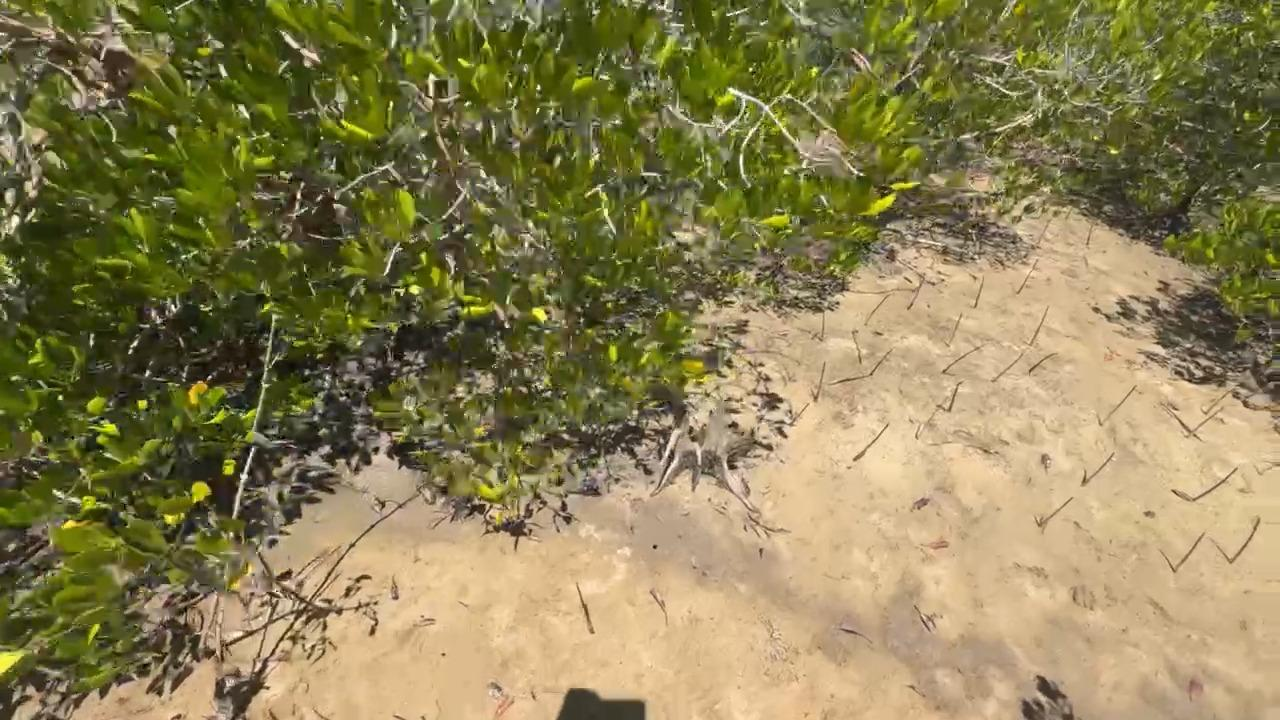Tree: (1192, 467, 1239, 501), (1230, 515, 1261, 564), (1100, 385, 1137, 424), (852, 423, 889, 461), (1175, 532, 1205, 572), (1082, 451, 1115, 486), (1037, 496, 1074, 527), (1188, 406, 1224, 437), (575, 581, 595, 634), (942, 346, 981, 373), (991, 353, 1023, 383), (1016, 258, 1040, 294), (1029, 305, 1050, 345), (864, 294, 891, 325), (869, 348, 895, 376), (649, 591, 668, 627), (907, 273, 925, 310), (1205, 390, 1231, 414), (1029, 353, 1058, 373), (813, 361, 825, 403), (948, 381, 964, 412), (840, 628, 873, 643), (789, 402, 810, 425), (914, 605, 931, 633), (948, 313, 962, 346), (851, 330, 862, 365), (973, 275, 984, 308), (1037, 220, 1051, 244), (1085, 222, 1094, 248), (312, 708, 329, 720), (821, 308, 825, 339), (1065, 207, 1074, 219), (392, 714, 405, 720)
